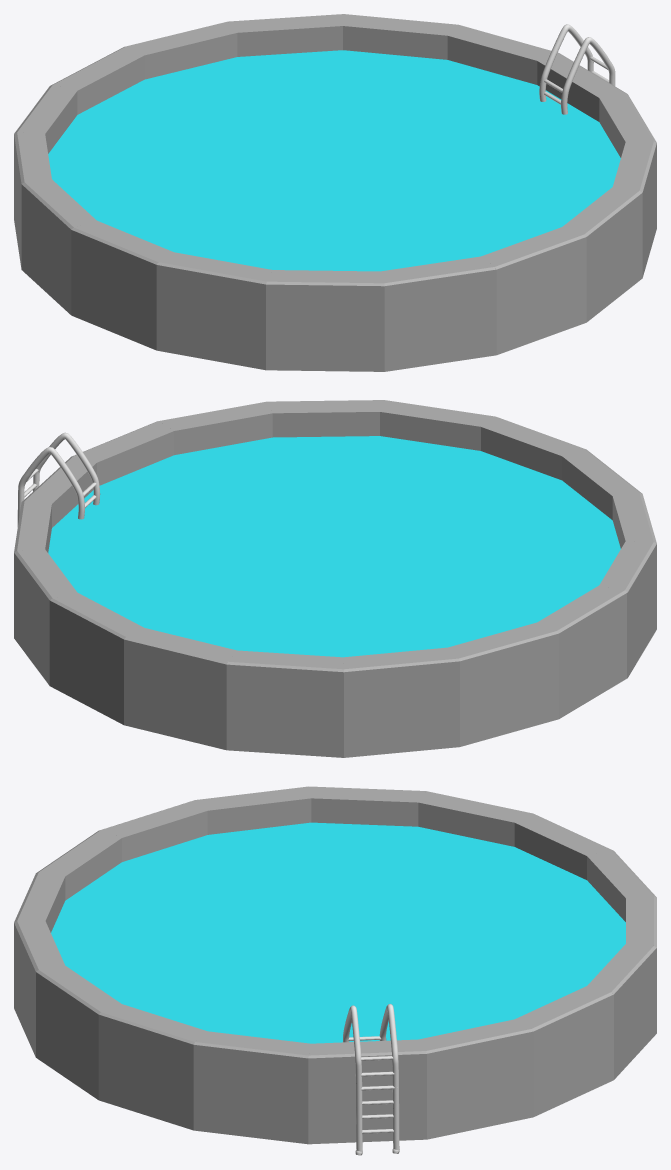
File: pool.ladder.fbx
The picture shows the model from 3 angles, top to bottom: view 1: azimuth 30°, elevation 25°; view 2: azimuth 150°, elevation 25°; view 3: azimuth 270°, elevation 25°; orthographic projection.
Parts seen in each view (by area): view 1: вода, бассейн, NurbsPath.003, NurbsPath.002; view 2: вода, бассейн, NurbsPath.002, NurbsPath.003; view 3: вода, бассейн, NurbsPath.003, NurbsPath.002.
Part boxes in pixels (x1=…): вода: x1=48, y1=50, x2=620, y2=271; бассейн: x1=14, y1=14, x2=656, y2=371; NurbsPath.003: x1=561, y1=37, x2=615, y2=114; NurbsPath.002: x1=539, y1=24, x2=593, y2=101; вода: x1=48, y1=436, x2=620, y2=657; бассейн: x1=14, y1=400, x2=656, y2=757; NurbsPath.002: x1=17, y1=447, x2=84, y2=526; NurbsPath.003: x1=33, y1=432, x2=100, y2=505; вода: x1=51, y1=822, x2=625, y2=1043; бассейн: x1=14, y1=786, x2=656, y2=1144; NurbsPath.003: x1=343, y1=1005, x2=362, y2=1155; NurbsPath.002: x1=379, y1=1004, x2=399, y2=1153.
Size of what is drawn, in the model's own units: 1025 by 234 by 1000.
